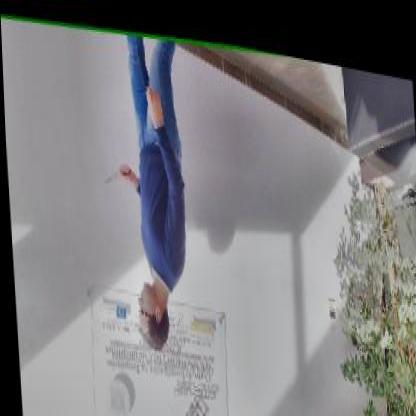knife: (99, 153, 131, 187)
